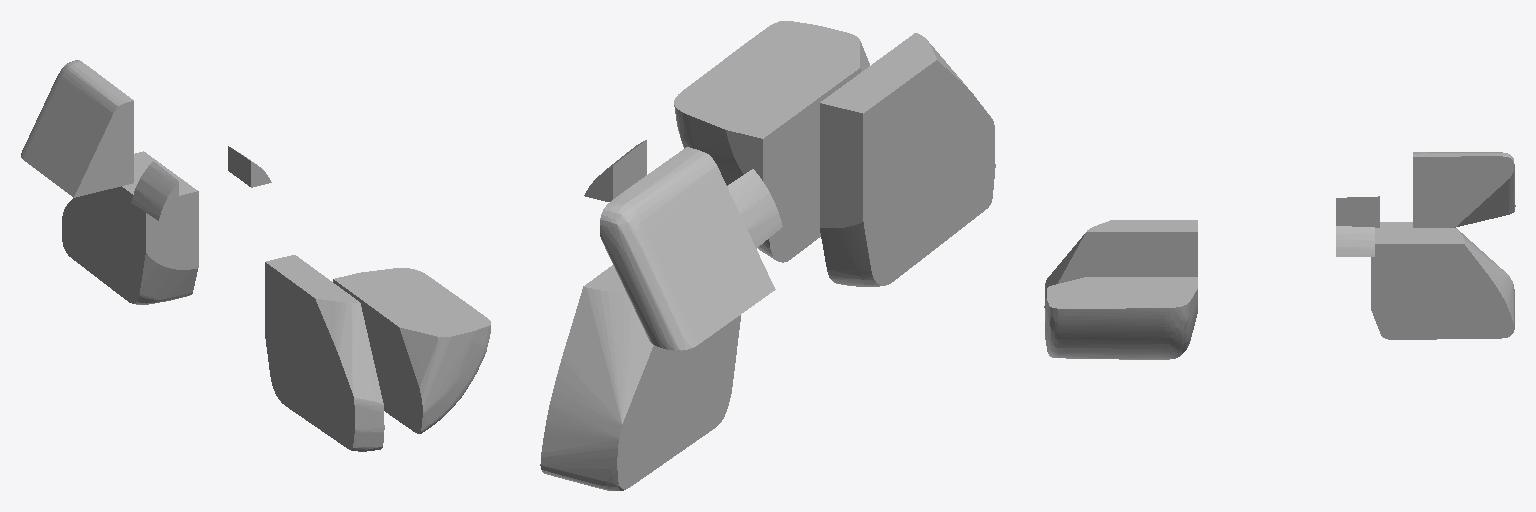
robot.urdf — root:
<robot name="root">
  <link name="link_coacd_convex_piece_0">
    <inertial>
      <origin xyz="0 0 0" rpy="0 0 0"/>
      <inertia ixx="1.49E-10" ixy="1.77E-12" ixz="3.00E-13" iyy="1.37E-10" iyz="7.34E-12" izz="1.51E-10"/>
    </inertial>
    <visual>
      <origin xyz="0 0 0" rpy="0 0 0"/>
      <geometry>
        <mesh filename="coacd_convex_piece_0.obj" scale="1.0000E+00 1.0000E+00 1.0000E+00"/>
      </geometry>
      <material name="">
        <color rgba="7.50E-01 7.50E-01 7.50E-01 1"/>
      </material>
    </visual>
    <collision>
      <origin xyz="0 0 0" rpy="0 0 0"/>
      <geometry>
        <mesh filename="coacd_convex_piece_0.obj" scale="1.0000E+00 1.0000E+00 1.0000E+00"/>
      </geometry>
    </collision>
  </link>
  <link name="link_coacd_convex_piece_1">
    <inertial>
      <origin xyz="0 0 0" rpy="0 0 0"/>
      <inertia ixx="9.38E-11" ixy="7.25E-13" ixz="-7.21E-13" iyy="2.74E-11" iyz="2.49E-11" izz="9.55E-11"/>
    </inertial>
    <visual>
      <origin xyz="0 0 0" rpy="0 0 0"/>
      <geometry>
        <mesh filename="coacd_convex_piece_1.obj" scale="1.0000E+00 1.0000E+00 1.0000E+00"/>
      </geometry>
      <material name="">
        <color rgba="7.50E-01 7.50E-01 7.50E-01 1"/>
      </material>
    </visual>
    <collision>
      <origin xyz="0 0 0" rpy="0 0 0"/>
      <geometry>
        <mesh filename="coacd_convex_piece_1.obj" scale="1.0000E+00 1.0000E+00 1.0000E+00"/>
      </geometry>
    </collision>
  </link>
  <joint name="link_coacd_convex_piece_1_joint" type="fixed">
    <origin xyz="0 0 0" rpy="0 0 0"/>
    <parent link="link_coacd_convex_piece_0"/>
    <child link="link_coacd_convex_piece_1"/>
  </joint>
  <link name="link_coacd_convex_piece_2">
    <inertial>
      <origin xyz="0 0 0" rpy="0 0 0"/>
      <inertia ixx="5.92E-10" ixy="-2.47E-10" ixz="2.82E-11" iyy="1.32E-10" iyz="7.15E-11" izz="6.84E-10"/>
    </inertial>
    <visual>
      <origin xyz="0 0 0" rpy="0 0 0"/>
      <geometry>
        <mesh filename="coacd_convex_piece_2.obj" scale="1.0000E+00 1.0000E+00 1.0000E+00"/>
      </geometry>
      <material name="">
        <color rgba="7.50E-01 7.50E-01 7.50E-01 1"/>
      </material>
    </visual>
    <collision>
      <origin xyz="0 0 0" rpy="0 0 0"/>
      <geometry>
        <mesh filename="coacd_convex_piece_2.obj" scale="1.0000E+00 1.0000E+00 1.0000E+00"/>
      </geometry>
    </collision>
  </link>
  <joint name="link_coacd_convex_piece_2_joint" type="fixed">
    <origin xyz="0 0 0" rpy="0 0 0"/>
    <parent link="link_coacd_convex_piece_1"/>
    <child link="link_coacd_convex_piece_2"/>
  </joint>
  <link name="link_coacd_convex_piece_3">
    <inertial>
      <origin xyz="0 0 0" rpy="0 0 0"/>
      <inertia ixx="2.52E-10" ixy="8.47E-11" ixz="-2.22E-11" iyy="5.37E-11" iyz="6.23E-11" izz="2.62E-10"/>
    </inertial>
    <visual>
      <origin xyz="0 0 0" rpy="0 0 0"/>
      <geometry>
        <mesh filename="coacd_convex_piece_3.obj" scale="1.0000E+00 1.0000E+00 1.0000E+00"/>
      </geometry>
      <material name="">
        <color rgba="7.50E-01 7.50E-01 7.50E-01 1"/>
      </material>
    </visual>
    <collision>
      <origin xyz="0 0 0" rpy="0 0 0"/>
      <geometry>
        <mesh filename="coacd_convex_piece_3.obj" scale="1.0000E+00 1.0000E+00 1.0000E+00"/>
      </geometry>
    </collision>
  </link>
  <joint name="link_coacd_convex_piece_3_joint" type="fixed">
    <origin xyz="0 0 0" rpy="0 0 0"/>
    <parent link="link_coacd_convex_piece_2"/>
    <child link="link_coacd_convex_piece_3"/>
  </joint>
  <link name="link_coacd_convex_piece_4">
    <inertial>
      <origin xyz="0 0 0" rpy="0 0 0"/>
      <inertia ixx="5.20E-10" ixy="1.23E-11" ixz="4.98E-12" iyy="8.74E-11" iyz="-1.84E-10" izz="4.46E-10"/>
    </inertial>
    <visual>
      <origin xyz="0 0 0" rpy="0 0 0"/>
      <geometry>
        <mesh filename="coacd_convex_piece_4.obj" scale="1.0000E+00 1.0000E+00 1.0000E+00"/>
      </geometry>
      <material name="">
        <color rgba="7.50E-01 7.50E-01 7.50E-01 1"/>
      </material>
    </visual>
    <collision>
      <origin xyz="0 0 0" rpy="0 0 0"/>
      <geometry>
        <mesh filename="coacd_convex_piece_4.obj" scale="1.0000E+00 1.0000E+00 1.0000E+00"/>
      </geometry>
    </collision>
  </link>
  <joint name="link_coacd_convex_piece_4_joint" type="fixed">
    <origin xyz="0 0 0" rpy="0 0 0"/>
    <parent link="link_coacd_convex_piece_3"/>
    <child link="link_coacd_convex_piece_4"/>
  </joint>
  <link name="link_coacd_convex_piece_5">
    <inertial>
      <origin xyz="0 0 0" rpy="0 0 0"/>
      <inertia ixx="3.55E-12" ixy="-1.74E-12" ixz="-6.19E-13" iyy="1.36E-12" iyz="-1.17E-12" izz="4.01E-12"/>
    </inertial>
    <visual>
      <origin xyz="0 0 0" rpy="0 0 0"/>
      <geometry>
        <mesh filename="coacd_convex_piece_5.obj" scale="1.0000E+00 1.0000E+00 1.0000E+00"/>
      </geometry>
      <material name="">
        <color rgba="7.50E-01 7.50E-01 7.50E-01 1"/>
      </material>
    </visual>
    <collision>
      <origin xyz="0 0 0" rpy="0 0 0"/>
      <geometry>
        <mesh filename="coacd_convex_piece_5.obj" scale="1.0000E+00 1.0000E+00 1.0000E+00"/>
      </geometry>
    </collision>
  </link>
  <joint name="link_coacd_convex_piece_5_joint" type="fixed">
    <origin xyz="0 0 0" rpy="0 0 0"/>
    <parent link="link_coacd_convex_piece_4"/>
    <child link="link_coacd_convex_piece_5"/>
  </joint>
  <link name="link_coacd_convex_piece_6">
    <inertial>
      <origin xyz="0 0 0" rpy="0 0 0"/>
      <inertia ixx="2.17E-10" ixy="3.10E-11" ixz="7.74E-12" iyy="2.06E-11" iyz="-4.76E-11" izz="2.09E-10"/>
    </inertial>
    <visual>
      <origin xyz="0 0 0" rpy="0 0 0"/>
      <geometry>
        <mesh filename="coacd_convex_piece_6.obj" scale="1.0000E+00 1.0000E+00 1.0000E+00"/>
      </geometry>
      <material name="">
        <color rgba="7.50E-01 7.50E-01 7.50E-01 1"/>
      </material>
    </visual>
    <collision>
      <origin xyz="0 0 0" rpy="0 0 0"/>
      <geometry>
        <mesh filename="coacd_convex_piece_6.obj" scale="1.0000E+00 1.0000E+00 1.0000E+00"/>
      </geometry>
    </collision>
  </link>
  <joint name="link_coacd_convex_piece_6_joint" type="fixed">
    <origin xyz="0 0 0" rpy="0 0 0"/>
    <parent link="link_coacd_convex_piece_5"/>
    <child link="link_coacd_convex_piece_6"/>
  </joint>
  <link name="link_coacd_convex_piece_7">
    <inertial>
      <origin xyz="0 0 0" rpy="0 0 0"/>
      <inertia ixx="1.15E-10" ixy="-1.19E-11" ixz="-3.70E-12" iyy="1.20E-11" iyz="-3.02E-11" izz="1.08E-10"/>
    </inertial>
    <visual>
      <origin xyz="0 0 0" rpy="0 0 0"/>
      <geometry>
        <mesh filename="coacd_convex_piece_7.obj" scale="1.0000E+00 1.0000E+00 1.0000E+00"/>
      </geometry>
      <material name="">
        <color rgba="7.50E-01 7.50E-01 7.50E-01 1"/>
      </material>
    </visual>
    <collision>
      <origin xyz="0 0 0" rpy="0 0 0"/>
      <geometry>
        <mesh filename="coacd_convex_piece_7.obj" scale="1.0000E+00 1.0000E+00 1.0000E+00"/>
      </geometry>
    </collision>
  </link>
  <joint name="link_coacd_convex_piece_7_joint" type="fixed">
    <origin xyz="0 0 0" rpy="0 0 0"/>
    <parent link="link_coacd_convex_piece_6"/>
    <child link="link_coacd_convex_piece_7"/>
  </joint>
  <link name="link_coacd_convex_piece_8">
    <inertial>
      <origin xyz="0 0 0" rpy="0 0 0"/>
      <inertia ixx="1.02E-09" ixy="3.47E-10" ixz="9.77E-11" iyy="2.42E-10" iyz="-2.63E-10" izz="1.07E-09"/>
    </inertial>
    <visual>
      <origin xyz="0 0 0" rpy="0 0 0"/>
      <geometry>
        <mesh filename="coacd_convex_piece_8.obj" scale="1.0000E+00 1.0000E+00 1.0000E+00"/>
      </geometry>
      <material name="">
        <color rgba="7.50E-01 7.50E-01 7.50E-01 1"/>
      </material>
    </visual>
    <collision>
      <origin xyz="0 0 0" rpy="0 0 0"/>
      <geometry>
        <mesh filename="coacd_convex_piece_8.obj" scale="1.0000E+00 1.0000E+00 1.0000E+00"/>
      </geometry>
    </collision>
  </link>
  <joint name="link_coacd_convex_piece_8_joint" type="fixed">
    <origin xyz="0 0 0" rpy="0 0 0"/>
    <parent link="link_coacd_convex_piece_7"/>
    <child link="link_coacd_convex_piece_8"/>
  </joint>
  <link name="link_coacd_convex_piece_9">
    <inertial>
      <origin xyz="0 0 0" rpy="0 0 0"/>
      <inertia ixx="5.39E-10" ixy="-1.57E-10" ixz="-4.28E-11" iyy="1.00E-10" iyz="-1.38E-10" izz="5.47E-10"/>
    </inertial>
    <visual>
      <origin xyz="0 0 0" rpy="0 0 0"/>
      <geometry>
        <mesh filename="coacd_convex_piece_9.obj" scale="1.0000E+00 1.0000E+00 1.0000E+00"/>
      </geometry>
      <material name="">
        <color rgba="7.50E-01 7.50E-01 7.50E-01 1"/>
      </material>
    </visual>
    <collision>
      <origin xyz="0 0 0" rpy="0 0 0"/>
      <geometry>
        <mesh filename="coacd_convex_piece_9.obj" scale="1.0000E+00 1.0000E+00 1.0000E+00"/>
      </geometry>
    </collision>
  </link>
  <joint name="link_coacd_convex_piece_9_joint" type="fixed">
    <origin xyz="0 0 0" rpy="0 0 0"/>
    <parent link="link_coacd_convex_piece_8"/>
    <child link="link_coacd_convex_piece_9"/>
  </joint>
  <link name="link_coacd_convex_piece_10">
    <inertial>
      <origin xyz="0 0 0" rpy="0 0 0"/>
      <inertia ixx="1.14E-09" ixy="-1.77E-10" ixz="4.87E-11" iyy="1.57E-10" iyz="2.91E-10" izz="1.07E-09"/>
    </inertial>
    <visual>
      <origin xyz="0 0 0" rpy="0 0 0"/>
      <geometry>
        <mesh filename="coacd_convex_piece_10.obj" scale="1.0000E+00 1.0000E+00 1.0000E+00"/>
      </geometry>
      <material name="">
        <color rgba="7.50E-01 7.50E-01 7.50E-01 1"/>
      </material>
    </visual>
    <collision>
      <origin xyz="0 0 0" rpy="0 0 0"/>
      <geometry>
        <mesh filename="coacd_convex_piece_10.obj" scale="1.0000E+00 1.0000E+00 1.0000E+00"/>
      </geometry>
    </collision>
  </link>
  <joint name="link_coacd_convex_piece_10_joint" type="fixed">
    <origin xyz="0 0 0" rpy="0 0 0"/>
    <parent link="link_coacd_convex_piece_9"/>
    <child link="link_coacd_convex_piece_10"/>
  </joint>
  <link name="link_coacd_convex_piece_11">
    <inertial>
      <origin xyz="0 0 0" rpy="0 0 0"/>
      <inertia ixx="9.97E-10" ixy="1.47E-10" ixz="-4.43E-11" iyy="1.42E-10" iyz="2.76E-10" izz="9.19E-10"/>
    </inertial>
    <visual>
      <origin xyz="0 0 0" rpy="0 0 0"/>
      <geometry>
        <mesh filename="coacd_convex_piece_11.obj" scale="1.0000E+00 1.0000E+00 1.0000E+00"/>
      </geometry>
      <material name="">
        <color rgba="7.50E-01 7.50E-01 7.50E-01 1"/>
      </material>
    </visual>
    <collision>
      <origin xyz="0 0 0" rpy="0 0 0"/>
      <geometry>
        <mesh filename="coacd_convex_piece_11.obj" scale="1.0000E+00 1.0000E+00 1.0000E+00"/>
      </geometry>
    </collision>
  </link>
  <joint name="link_coacd_convex_piece_11_joint" type="fixed">
    <origin xyz="0 0 0" rpy="0 0 0"/>
    <parent link="link_coacd_convex_piece_10"/>
    <child link="link_coacd_convex_piece_11"/>
  </joint>
  <link name="link_coacd_convex_piece_12">
    <inertial>
      <origin xyz="0 0 0" rpy="0 0 0"/>
      <inertia ixx="5.00E-10" ixy="1.61E-10" ixz="3.39E-11" iyy="8.73E-11" iyz="-1.04E-10" izz="5.28E-10"/>
    </inertial>
    <visual>
      <origin xyz="0 0 0" rpy="0 0 0"/>
      <geometry>
        <mesh filename="coacd_convex_piece_12.obj" scale="1.0000E+00 1.0000E+00 1.0000E+00"/>
      </geometry>
      <material name="">
        <color rgba="7.50E-01 7.50E-01 7.50E-01 1"/>
      </material>
    </visual>
    <collision>
      <origin xyz="0 0 0" rpy="0 0 0"/>
      <geometry>
        <mesh filename="coacd_convex_piece_12.obj" scale="1.0000E+00 1.0000E+00 1.0000E+00"/>
      </geometry>
    </collision>
  </link>
  <joint name="link_coacd_convex_piece_12_joint" type="fixed">
    <origin xyz="0 0 0" rpy="0 0 0"/>
    <parent link="link_coacd_convex_piece_11"/>
    <child link="link_coacd_convex_piece_12"/>
  </joint>
  <link name="link_coacd_convex_piece_13">
    <inertial>
      <origin xyz="0 0 0" rpy="0 0 0"/>
      <inertia ixx="4.43E-10" ixy="8.27E-11" ixz="-2.01E-11" iyy="5.97E-11" iyz="1.17E-10" izz="4.30E-10"/>
    </inertial>
    <visual>
      <origin xyz="0 0 0" rpy="0 0 0"/>
      <geometry>
        <mesh filename="coacd_convex_piece_13.obj" scale="1.0000E+00 1.0000E+00 1.0000E+00"/>
      </geometry>
      <material name="">
        <color rgba="7.50E-01 7.50E-01 7.50E-01 1"/>
      </material>
    </visual>
    <collision>
      <origin xyz="0 0 0" rpy="0 0 0"/>
      <geometry>
        <mesh filename="coacd_convex_piece_13.obj" scale="1.0000E+00 1.0000E+00 1.0000E+00"/>
      </geometry>
    </collision>
  </link>
  <joint name="link_coacd_convex_piece_13_joint" type="fixed">
    <origin xyz="0 0 0" rpy="0 0 0"/>
    <parent link="link_coacd_convex_piece_12"/>
    <child link="link_coacd_convex_piece_13"/>
  </joint>
  <link name="link_coacd_convex_piece_14">
    <inertial>
      <origin xyz="0 0 0" rpy="0 0 0"/>
      <inertia ixx="5.31E-10" ixy="-5.48E-11" ixz="2.26E-11" iyy="9.05E-11" iyz="1.82E-10" izz="4.57E-10"/>
    </inertial>
    <visual>
      <origin xyz="0 0 0" rpy="0 0 0"/>
      <geometry>
        <mesh filename="coacd_convex_piece_14.obj" scale="1.0000E+00 1.0000E+00 1.0000E+00"/>
      </geometry>
      <material name="">
        <color rgba="7.50E-01 7.50E-01 7.50E-01 1"/>
      </material>
    </visual>
    <collision>
      <origin xyz="0 0 0" rpy="0 0 0"/>
      <geometry>
        <mesh filename="coacd_convex_piece_14.obj" scale="1.0000E+00 1.0000E+00 1.0000E+00"/>
      </geometry>
    </collision>
  </link>
  <joint name="link_coacd_convex_piece_14_joint" type="fixed">
    <origin xyz="0 0 0" rpy="0 0 0"/>
    <parent link="link_coacd_convex_piece_13"/>
    <child link="link_coacd_convex_piece_14"/>
  </joint>
  <link name="link_coacd_convex_piece_15">
    <inertial>
      <origin xyz="0 0 0" rpy="0 0 0"/>
      <inertia ixx="1.12E-09" ixy="-3.99E-10" ixz="9.87E-11" iyy="2.65E-10" iyz="2.67E-10" izz="1.20E-09"/>
    </inertial>
    <visual>
      <origin xyz="0 0 0" rpy="0 0 0"/>
      <geometry>
        <mesh filename="coacd_convex_piece_15.obj" scale="1.0000E+00 1.0000E+00 1.0000E+00"/>
      </geometry>
      <material name="">
        <color rgba="7.50E-01 7.50E-01 7.50E-01 1"/>
      </material>
    </visual>
    <collision>
      <origin xyz="0 0 0" rpy="0 0 0"/>
      <geometry>
        <mesh filename="coacd_convex_piece_15.obj" scale="1.0000E+00 1.0000E+00 1.0000E+00"/>
      </geometry>
    </collision>
  </link>
  <joint name="link_coacd_convex_piece_15_joint" type="fixed">
    <origin xyz="0 0 0" rpy="0 0 0"/>
    <parent link="link_coacd_convex_piece_14"/>
    <child link="link_coacd_convex_piece_15"/>
  </joint>
  <link name="link_coacd_convex_piece_16">
    <inertial>
      <origin xyz="0 0 0" rpy="0 0 0"/>
      <inertia ixx="9.58E-10" ixy="7.27E-11" ixz="2.06E-11" iyy="1.22E-10" iyz="-2.41E-10" izz="8.56E-10"/>
    </inertial>
    <visual>
      <origin xyz="0 0 0" rpy="0 0 0"/>
      <geometry>
        <mesh filename="coacd_convex_piece_16.obj" scale="1.0000E+00 1.0000E+00 1.0000E+00"/>
      </geometry>
      <material name="">
        <color rgba="7.50E-01 7.50E-01 7.50E-01 1"/>
      </material>
    </visual>
    <collision>
      <origin xyz="0 0 0" rpy="0 0 0"/>
      <geometry>
        <mesh filename="coacd_convex_piece_16.obj" scale="1.0000E+00 1.0000E+00 1.0000E+00"/>
      </geometry>
    </collision>
  </link>
  <joint name="link_coacd_convex_piece_16_joint" type="fixed">
    <origin xyz="0 0 0" rpy="0 0 0"/>
    <parent link="link_coacd_convex_piece_15"/>
    <child link="link_coacd_convex_piece_16"/>
  </joint>
  <link name="link_coacd_convex_piece_17">
    <inertial>
      <origin xyz="0 0 0" rpy="0 0 0"/>
      <inertia ixx="7.25E-10" ixy="-7.87E-11" ixz="-2.34E-11" iyy="9.72E-11" iyz="-1.87E-10" izz="6.52E-10"/>
    </inertial>
    <visual>
      <origin xyz="0 0 0" rpy="0 0 0"/>
      <geometry>
        <mesh filename="coacd_convex_piece_17.obj" scale="1.0000E+00 1.0000E+00 1.0000E+00"/>
      </geometry>
      <material name="">
        <color rgba="7.50E-01 7.50E-01 7.50E-01 1"/>
      </material>
    </visual>
    <collision>
      <origin xyz="0 0 0" rpy="0 0 0"/>
      <geometry>
        <mesh filename="coacd_convex_piece_17.obj" scale="1.0000E+00 1.0000E+00 1.0000E+00"/>
      </geometry>
    </collision>
  </link>
  <joint name="link_coacd_convex_piece_17_joint" type="fixed">
    <origin xyz="0 0 0" rpy="0 0 0"/>
    <parent link="link_coacd_convex_piece_16"/>
    <child link="link_coacd_convex_piece_17"/>
  </joint>
  <link name="link_coacd_convex_piece_18">
    <inertial>
      <origin xyz="0 0 0" rpy="0 0 0"/>
      <inertia ixx="1.23E-09" ixy="-4.46E-10" ixz="-9.97E-11" iyy="2.89E-10" iyz="-2.61E-10" izz="1.34E-09"/>
    </inertial>
    <visual>
      <origin xyz="0 0 0" rpy="0 0 0"/>
      <geometry>
        <mesh filename="coacd_convex_piece_18.obj" scale="1.0000E+00 1.0000E+00 1.0000E+00"/>
      </geometry>
      <material name="">
        <color rgba="7.50E-01 7.50E-01 7.50E-01 1"/>
      </material>
    </visual>
    <collision>
      <origin xyz="0 0 0" rpy="0 0 0"/>
      <geometry>
        <mesh filename="coacd_convex_piece_18.obj" scale="1.0000E+00 1.0000E+00 1.0000E+00"/>
      </geometry>
    </collision>
  </link>
  <joint name="link_coacd_convex_piece_18_joint" type="fixed">
    <origin xyz="0 0 0" rpy="0 0 0"/>
    <parent link="link_coacd_convex_piece_17"/>
    <child link="link_coacd_convex_piece_18"/>
  </joint>
  <link name="link_coacd_convex_piece_19">
    <inertial>
      <origin xyz="0 0 0" rpy="0 0 0"/>
      <inertia ixx="1.13E-09" ixy="2.58E-10" ixz="-8.95E-11" iyy="2.67E-10" iyz="3.73E-10" izz="1.07E-09"/>
    </inertial>
    <visual>
      <origin xyz="0 0 0" rpy="0 0 0"/>
      <geometry>
        <mesh filename="coacd_convex_piece_19.obj" scale="1.0000E+00 1.0000E+00 1.0000E+00"/>
      </geometry>
      <material name="">
        <color rgba="7.50E-01 7.50E-01 7.50E-01 1"/>
      </material>
    </visual>
    <collision>
      <origin xyz="0 0 0" rpy="0 0 0"/>
      <geometry>
        <mesh filename="coacd_convex_piece_19.obj" scale="1.0000E+00 1.0000E+00 1.0000E+00"/>
      </geometry>
    </collision>
  </link>
  <joint name="link_coacd_convex_piece_19_joint" type="fixed">
    <origin xyz="0 0 0" rpy="0 0 0"/>
    <parent link="link_coacd_convex_piece_18"/>
    <child link="link_coacd_convex_piece_19"/>
  </joint>
  <link name="link_coacd_convex_piece_20">
    <inertial>
      <origin xyz="0 0 0" rpy="0 0 0"/>
      <inertia ixx="7.19E-11" ixy="3.45E-11" ixz="1.07E-11" iyy="2.78E-11" iyz="-2.12E-11" izz="8.17E-11"/>
    </inertial>
    <visual>
      <origin xyz="0 0 0" rpy="0 0 0"/>
      <geometry>
        <mesh filename="coacd_convex_piece_20.obj" scale="1.0000E+00 1.0000E+00 1.0000E+00"/>
      </geometry>
      <material name="">
        <color rgba="7.50E-01 7.50E-01 7.50E-01 1"/>
      </material>
    </visual>
    <collision>
      <origin xyz="0 0 0" rpy="0 0 0"/>
      <geometry>
        <mesh filename="coacd_convex_piece_20.obj" scale="1.0000E+00 1.0000E+00 1.0000E+00"/>
      </geometry>
    </collision>
  </link>
  <joint name="link_coacd_convex_piece_20_joint" type="fixed">
    <origin xyz="0 0 0" rpy="0 0 0"/>
    <parent link="link_coacd_convex_piece_19"/>
    <child link="link_coacd_convex_piece_20"/>
  </joint>
  <link name="link_coacd_convex_piece_21">
    <inertial>
      <origin xyz="0 0 0" rpy="0 0 0"/>
      <inertia ixx="6.20E-12" ixy="3.88E-12" ixz="9.99E-13" iyy="2.87E-12" iyz="-1.55E-12" izz="8.09E-12"/>
    </inertial>
    <visual>
      <origin xyz="0 0 0" rpy="0 0 0"/>
      <geometry>
        <mesh filename="coacd_convex_piece_21.obj" scale="1.0000E+00 1.0000E+00 1.0000E+00"/>
      </geometry>
      <material name="">
        <color rgba="7.50E-01 7.50E-01 7.50E-01 1"/>
      </material>
    </visual>
    <collision>
      <origin xyz="0 0 0" rpy="0 0 0"/>
      <geometry>
        <mesh filename="coacd_convex_piece_21.obj" scale="1.0000E+00 1.0000E+00 1.0000E+00"/>
      </geometry>
    </collision>
  </link>
  <joint name="link_coacd_convex_piece_21_joint" type="fixed">
    <origin xyz="0 0 0" rpy="0 0 0"/>
    <parent link="link_coacd_convex_piece_20"/>
    <child link="link_coacd_convex_piece_21"/>
  </joint>
  <link name="link_coacd_convex_piece_22">
    <inertial>
      <origin xyz="0 0 0" rpy="0 0 0"/>
      <inertia ixx="3.82E-10" ixy="1.79E-10" ixz="-2.14E-11" iyy="9.92E-11" iyz="4.67E-11" izz="4.60E-10"/>
    </inertial>
    <visual>
      <origin xyz="0 0 0" rpy="0 0 0"/>
      <geometry>
        <mesh filename="coacd_convex_piece_22.obj" scale="1.0000E+00 1.0000E+00 1.0000E+00"/>
      </geometry>
      <material name="">
        <color rgba="7.50E-01 7.50E-01 7.50E-01 1"/>
      </material>
    </visual>
    <collision>
      <origin xyz="0 0 0" rpy="0 0 0"/>
      <geometry>
        <mesh filename="coacd_convex_piece_22.obj" scale="1.0000E+00 1.0000E+00 1.0000E+00"/>
      </geometry>
    </collision>
  </link>
  <joint name="link_coacd_convex_piece_22_joint" type="fixed">
    <origin xyz="0 0 0" rpy="0 0 0"/>
    <parent link="link_coacd_convex_piece_21"/>
    <child link="link_coacd_convex_piece_22"/>
  </joint>
  <link name="link_coacd_convex_piece_23">
    <inertial>
      <origin xyz="0 0 0" rpy="0 0 0"/>
      <inertia ixx="4.63E-10" ixy="2.02E-10" ixz="-5.07E-12" iyy="9.89E-11" iyz="1.33E-11" izz="5.58E-10"/>
    </inertial>
    <visual>
      <origin xyz="0 0 0" rpy="0 0 0"/>
      <geometry>
        <mesh filename="coacd_convex_piece_23.obj" scale="1.0000E+00 1.0000E+00 1.0000E+00"/>
      </geometry>
      <material name="">
        <color rgba="7.50E-01 7.50E-01 7.50E-01 1"/>
      </material>
    </visual>
    <collision>
      <origin xyz="0 0 0" rpy="0 0 0"/>
      <geometry>
        <mesh filename="coacd_convex_piece_23.obj" scale="1.0000E+00 1.0000E+00 1.0000E+00"/>
      </geometry>
    </collision>
  </link>
  <joint name="link_coacd_convex_piece_23_joint" type="fixed">
    <origin xyz="0 0 0" rpy="0 0 0"/>
    <parent link="link_coacd_convex_piece_22"/>
    <child link="link_coacd_convex_piece_23"/>
  </joint>
</robot>

--- Render facts (derived) ---
Views: 3 orthographic renders of the robot side by side, from view 1: azimuth 30°, elevation 25°; view 2: azimuth 150°, elevation 25°; view 3: azimuth 270°, elevation 25°.
Model root with 24 links and 23 joints (23 fixed), rooted at link_coacd_convex_piece_0, posed all joints at 0.
Visible links, largest first — view 1: link_coacd_convex_piece_17, link_coacd_convex_piece_8, link_coacd_convex_piece_11, link_coacd_convex_piece_12, link_coacd_convex_piece_21, link_coacd_convex_piece_5; view 2: link_coacd_convex_piece_17, link_coacd_convex_piece_11, link_coacd_convex_piece_8, link_coacd_convex_piece_12, link_coacd_convex_piece_21, link_coacd_convex_piece_5; view 3: link_coacd_convex_piece_11, link_coacd_convex_piece_8, link_coacd_convex_piece_17, link_coacd_convex_piece_12, link_coacd_convex_piece_21, link_coacd_convex_piece_5.
Link boxes in pixels (left/top/right/bottom): link_coacd_convex_piece_17: left=265, top=255, right=384, bottom=451; link_coacd_convex_piece_8: left=333, top=268, right=490, bottom=433; link_coacd_convex_piece_11: left=62, top=151, right=198, bottom=304; link_coacd_convex_piece_12: left=21, top=60, right=133, bottom=197; link_coacd_convex_piece_21: left=131, top=161, right=178, bottom=220; link_coacd_convex_piece_5: left=228, top=146, right=271, bottom=187; link_coacd_convex_piece_17: left=820, top=33, right=995, bottom=286; link_coacd_convex_piece_11: left=540, top=265, right=740, bottom=490; link_coacd_convex_piece_8: left=674, top=21, right=869, bottom=262; link_coacd_convex_piece_12: left=600, top=147, right=775, bottom=350; link_coacd_convex_piece_21: left=727, top=169, right=782, bottom=248; link_coacd_convex_piece_5: left=584, top=140, right=646, bottom=201; link_coacd_convex_piece_11: left=1371, top=222, right=1514, bottom=339; link_coacd_convex_piece_8: left=1045, top=277, right=1197, bottom=359; link_coacd_convex_piece_17: left=1044, top=220, right=1197, bottom=321; link_coacd_convex_piece_12: left=1413, top=152, right=1515, bottom=227; link_coacd_convex_piece_21: left=1336, top=196, right=1379, bottom=227; link_coacd_convex_piece_5: left=1336, top=226, right=1374, bottom=256.
Size in the robot's own frame: 0.0297 by 0.0676 by 0.028 metres.
Meshes: 24 distinct files referenced, 6 mesh visuals loaded (6 OBJ); not drawn: 18 (reference not matched to a file when rendering).